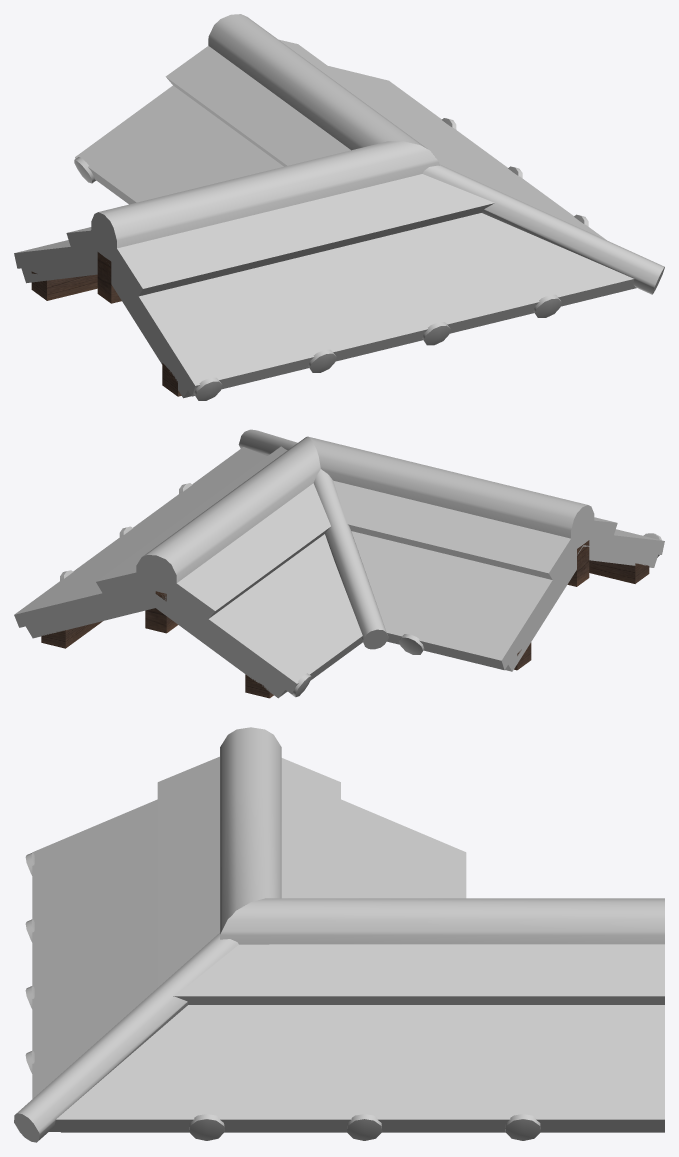
File: fence_top1a_corner2.fbx
3 renders of one model, top to bottom at view 1: azimuth 30°, elevation 25°; view 2: azimuth 150°, elevation 25°; view 3: azimuth 270°, elevation 25°, orthographic. The views are drawn at different scales.
Visible parts, largest first — view 1: fence_top1a_corner2; view 2: fence_top1a_corner2; view 3: fence_top1a_corner2.
Part boxes in pixels (x1,y1,x2,y2): fence_top1a_corner2: (14,14,664,400); fence_top1a_corner2: (14,429,664,698); fence_top1a_corner2: (14,727,664,1142).
Bounding box in the file's own units: 226 × 58.76 × 226.
